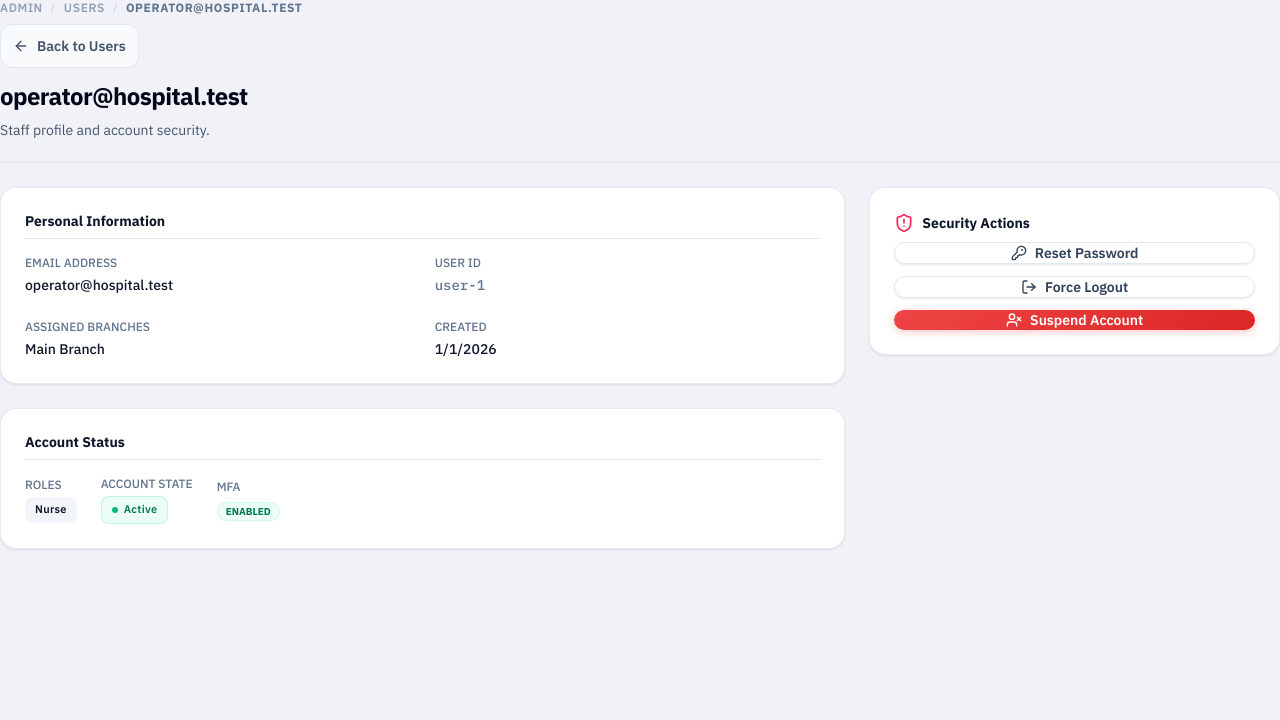
Test case: UserDetail admin action truth hardening › active account status action uses adminService.deactivateUser and updates inline state
This screenshot has width=1280, height=720.
Step 1. Click the button "Suspend Account" → [1075, 320], box [894,310,1255,330]
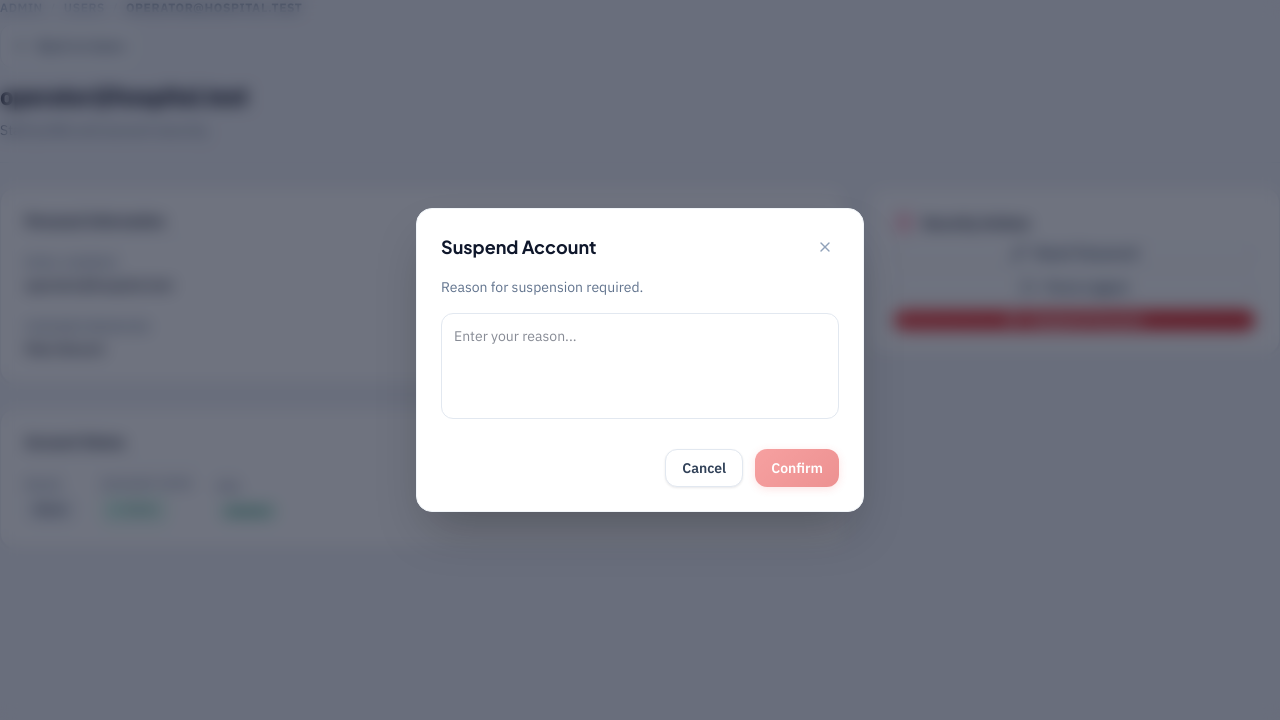
Step 2. Type "Employment ended" into the text box with placeholder "Enter your reason..." → [640, 366], box [441,313,839,419]
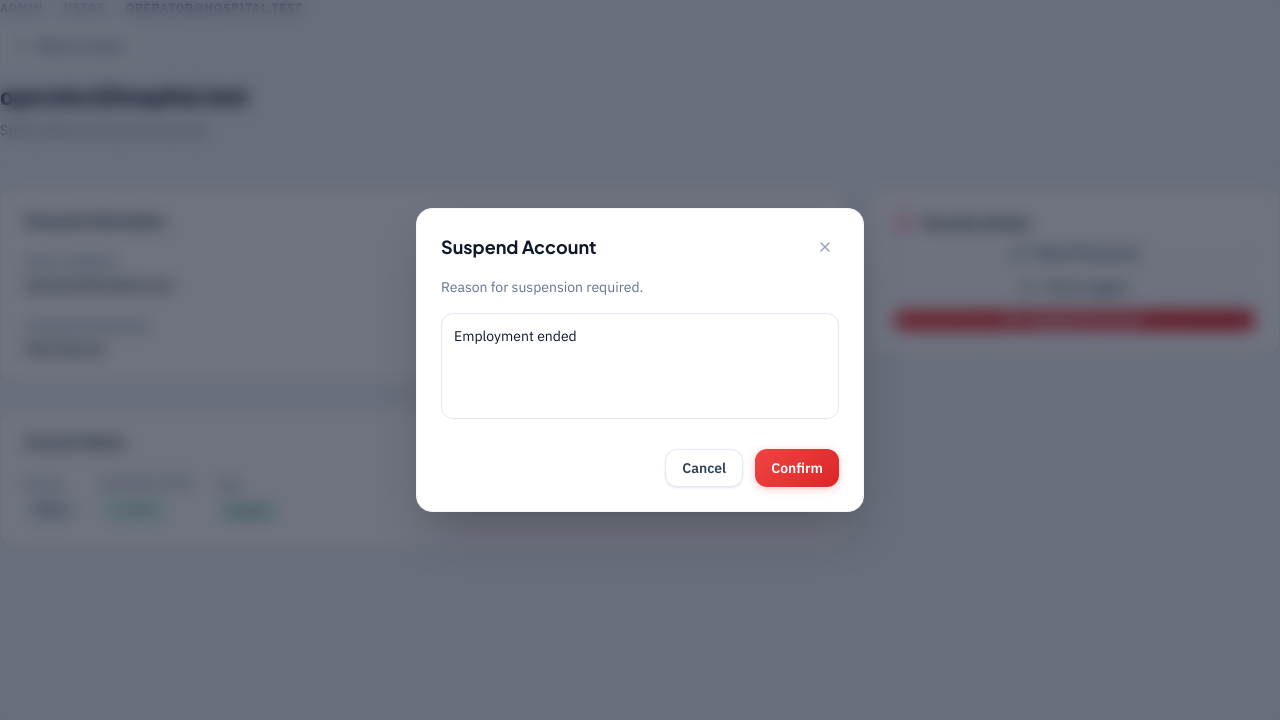
Step 3. Click the button "Confirm" → [797, 468], box [755,449,839,487]
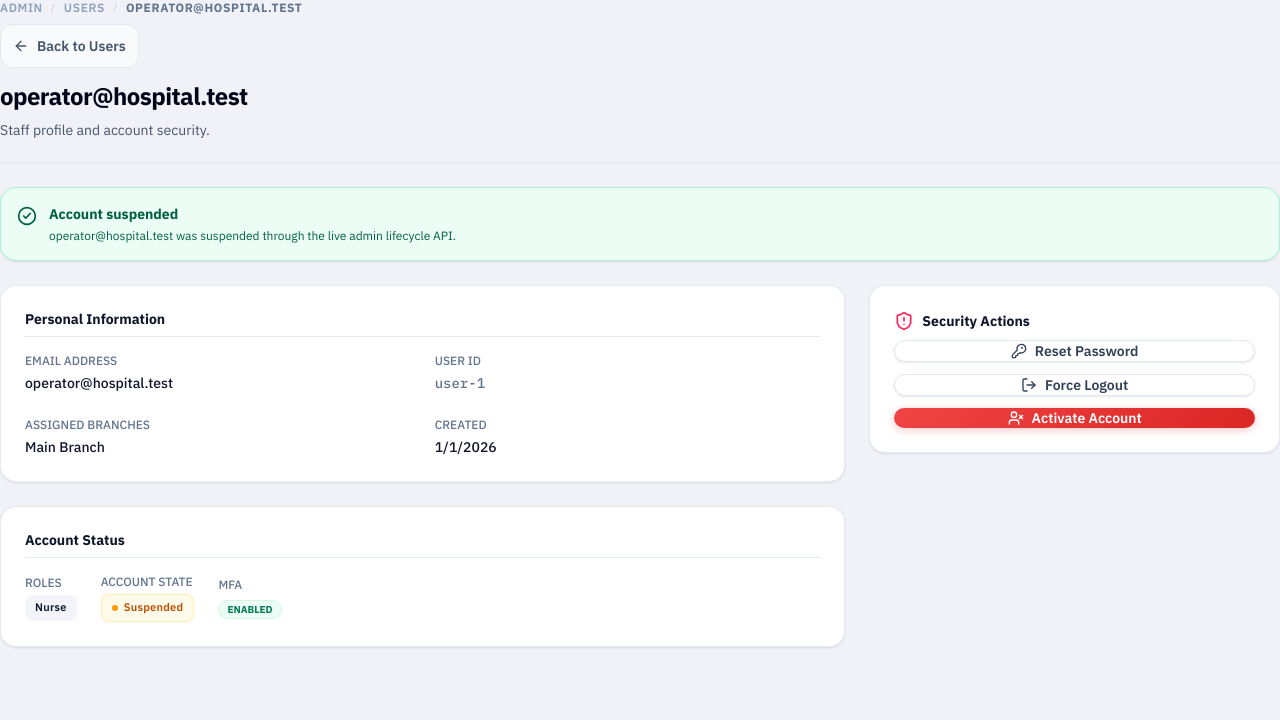
Expected: the message shows "Account suspended", [49,205,178,223]
Expected: the text "Suspended" is shown, [101,594,194,622]
